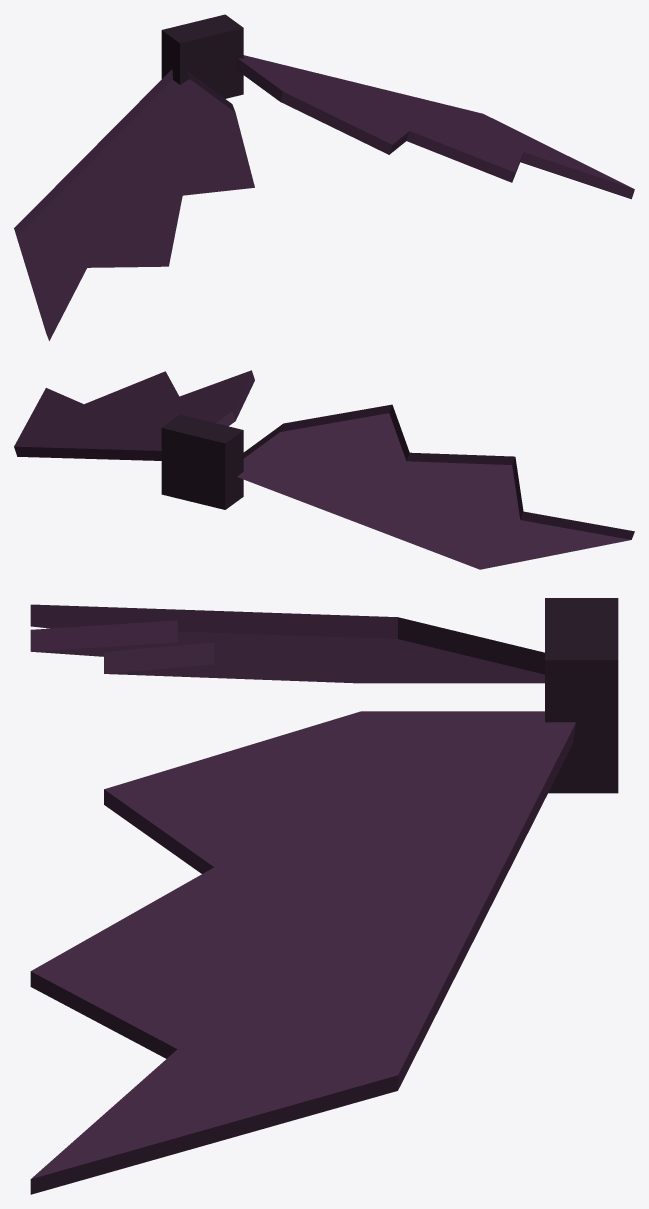
The model's file is demon_wings.glb.
The picture shows the model from 3 angles, top to bottom: view 1: azimuth 30°, elevation 25°; view 2: azimuth 150°, elevation 25°; view 3: azimuth 270°, elevation 25°; orthographic projection. The views are drawn at different scales.
Visible parts, largest first — view 1: demon_wings_v0; view 2: demon_wings_v0; view 3: demon_wings_v0.
Boxes of the visible parts, x1,y1,x2,y2 form: demon_wings_v0: (14, 14, 634, 340); demon_wings_v0: (14, 370, 634, 569); demon_wings_v0: (30, 598, 618, 1194).
Size of the model in its own units: 0.7405 by 0.1691 by 0.32.
